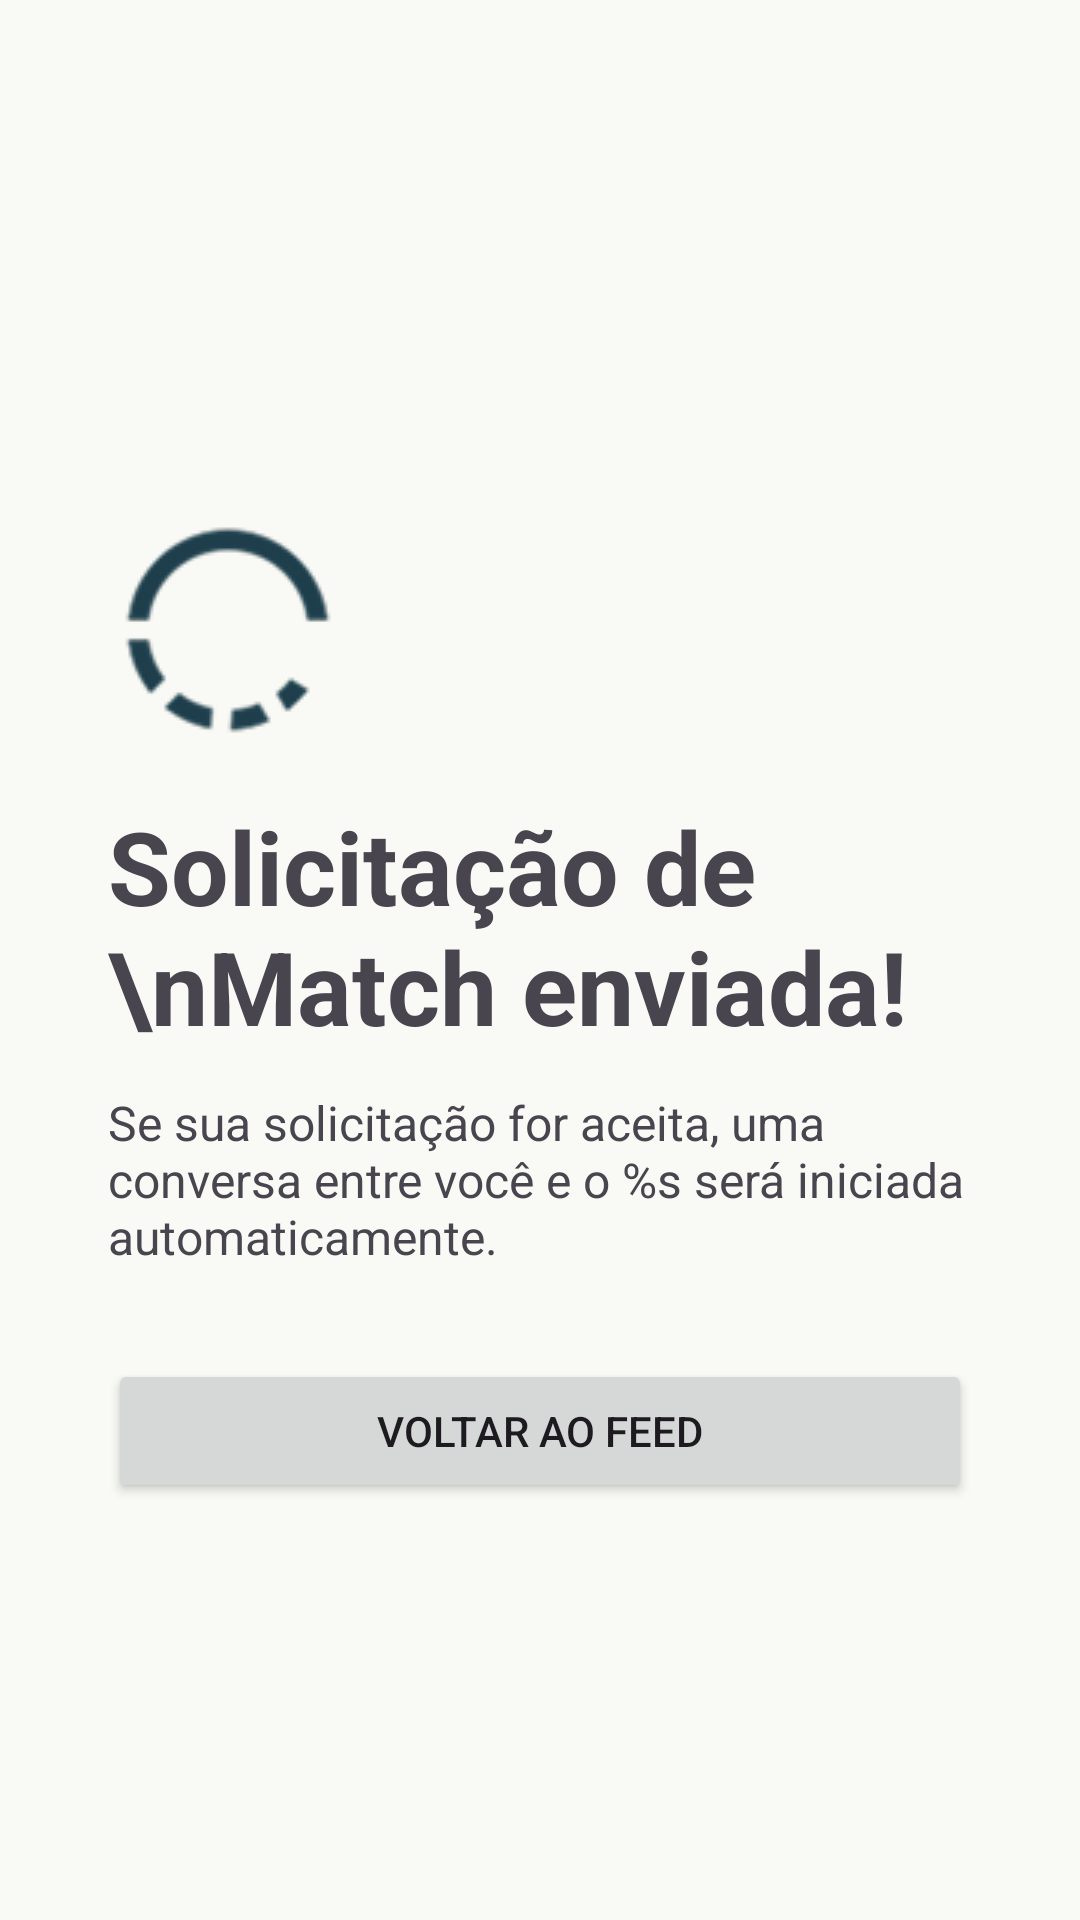

Locate icon controls on the screen. Image size 1080×1920, boxes as box(x1, y1, x2, y2).
loading: box(126, 527, 330, 732)
